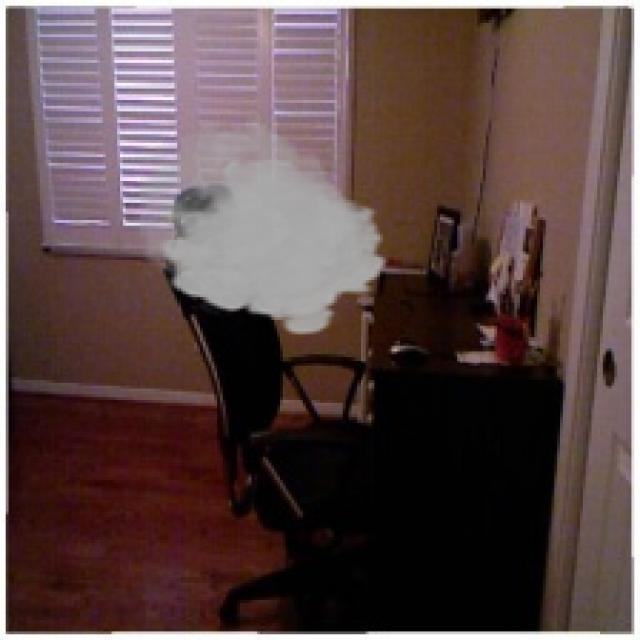Smoke: (140, 111, 392, 338)
